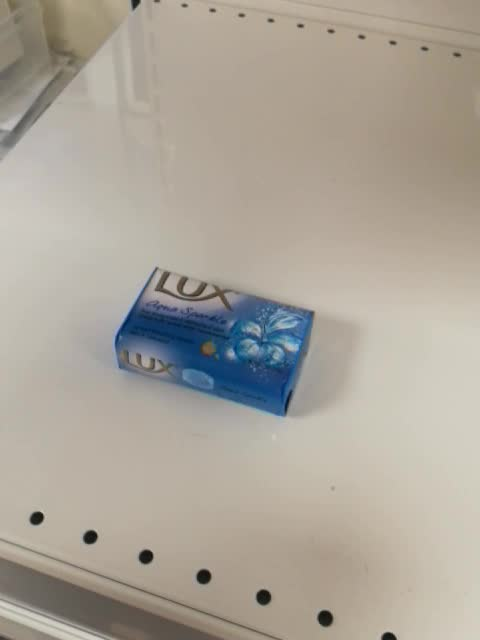soap: (113, 266, 315, 419)
